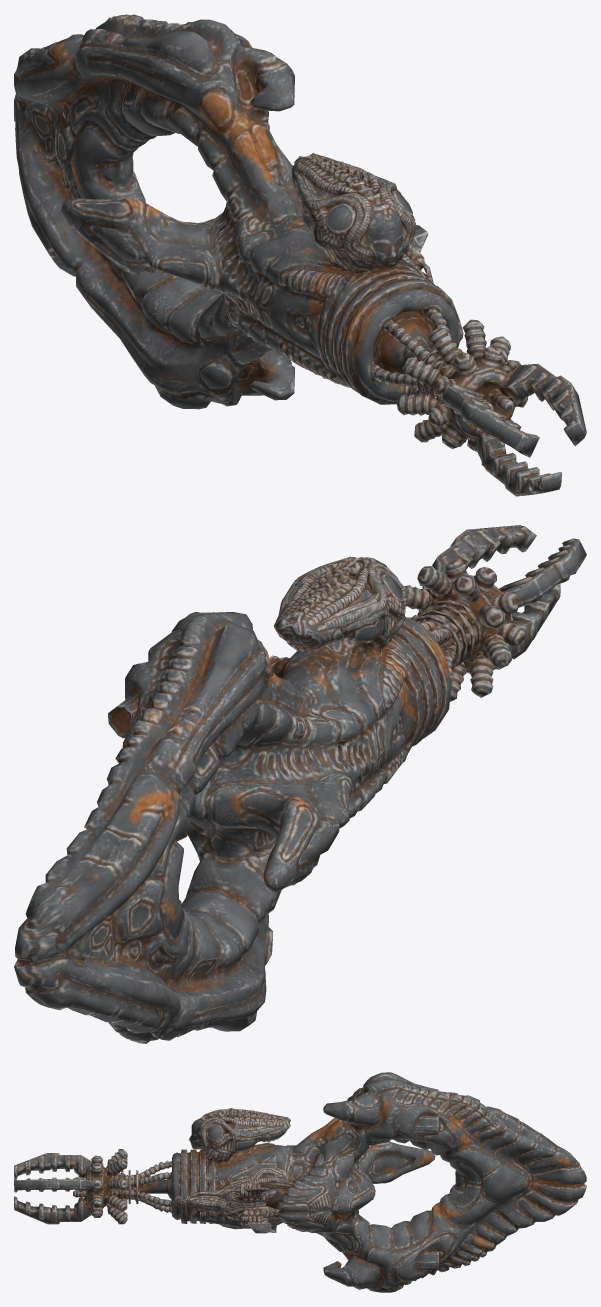
File: arcgun.glb
The picture shows the model from 3 angles, top to bottom: view 1: azimuth 30°, elevation 25°; view 2: azimuth 150°, elevation 25°; view 3: azimuth 270°, elevation 25°; orthographic projection. The views are drawn at different scales.
Visible parts, largest first — view 1: Box; view 2: Box; view 3: Box.
Boxes of the visible parts, x1,y1,x2,y2 form: Box: (14, 14, 586, 496); Box: (14, 525, 586, 1043); Box: (14, 1072, 586, 1292).
Size of the model in its own units: 2.49 by 4.18 by 10.24.
Materials: 1 (1 with a texture image).
